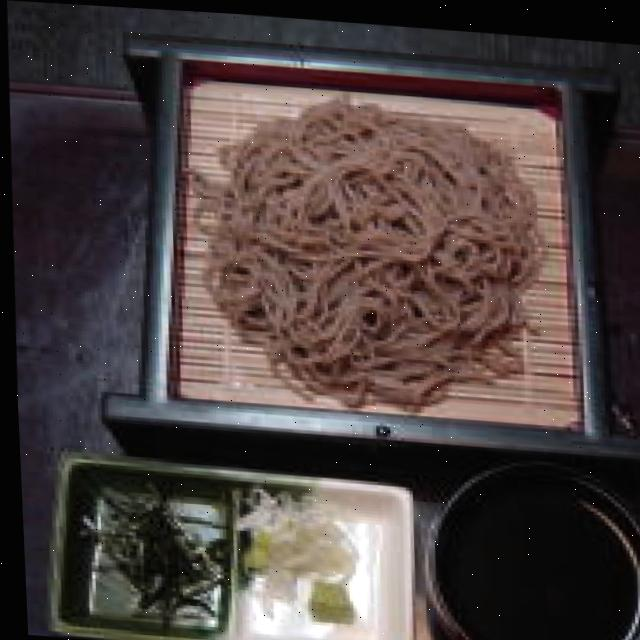面条主食: (74, 4, 640, 477)
